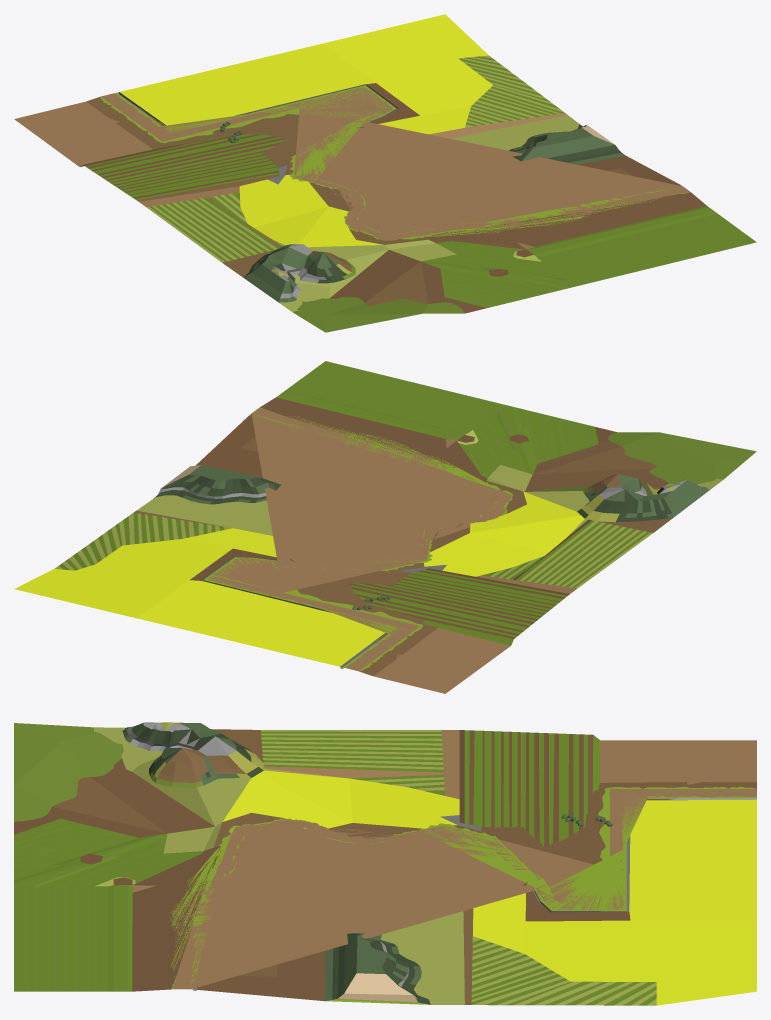
Rendered from Mapa tutorial.fbx.
The picture shows the model from 3 angles, top to bottom: view 1: azimuth 30°, elevation 25°; view 2: azimuth 150°, elevation 25°; view 3: azimuth 270°, elevation 25°; orthographic projection. The views are drawn at different scales.
Visible parts, largest first — view 1: Plano.001; view 2: Plano.001; view 3: Plano.001.
Part boxes in pixels (box(x1,y1,x2,y2)): Plano.001: box(14, 14, 756, 332); Plano.001: box(14, 361, 756, 693); Plano.001: box(14, 722, 756, 1005).
Bounding box in the file's own units: 134867 × 11435 × 168031.
